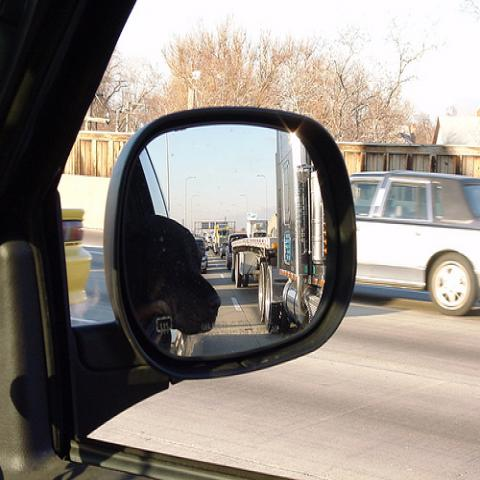car: (1, 1, 360, 474), (347, 168, 479, 316), (61, 208, 93, 318)
truck: (257, 131, 327, 332)
